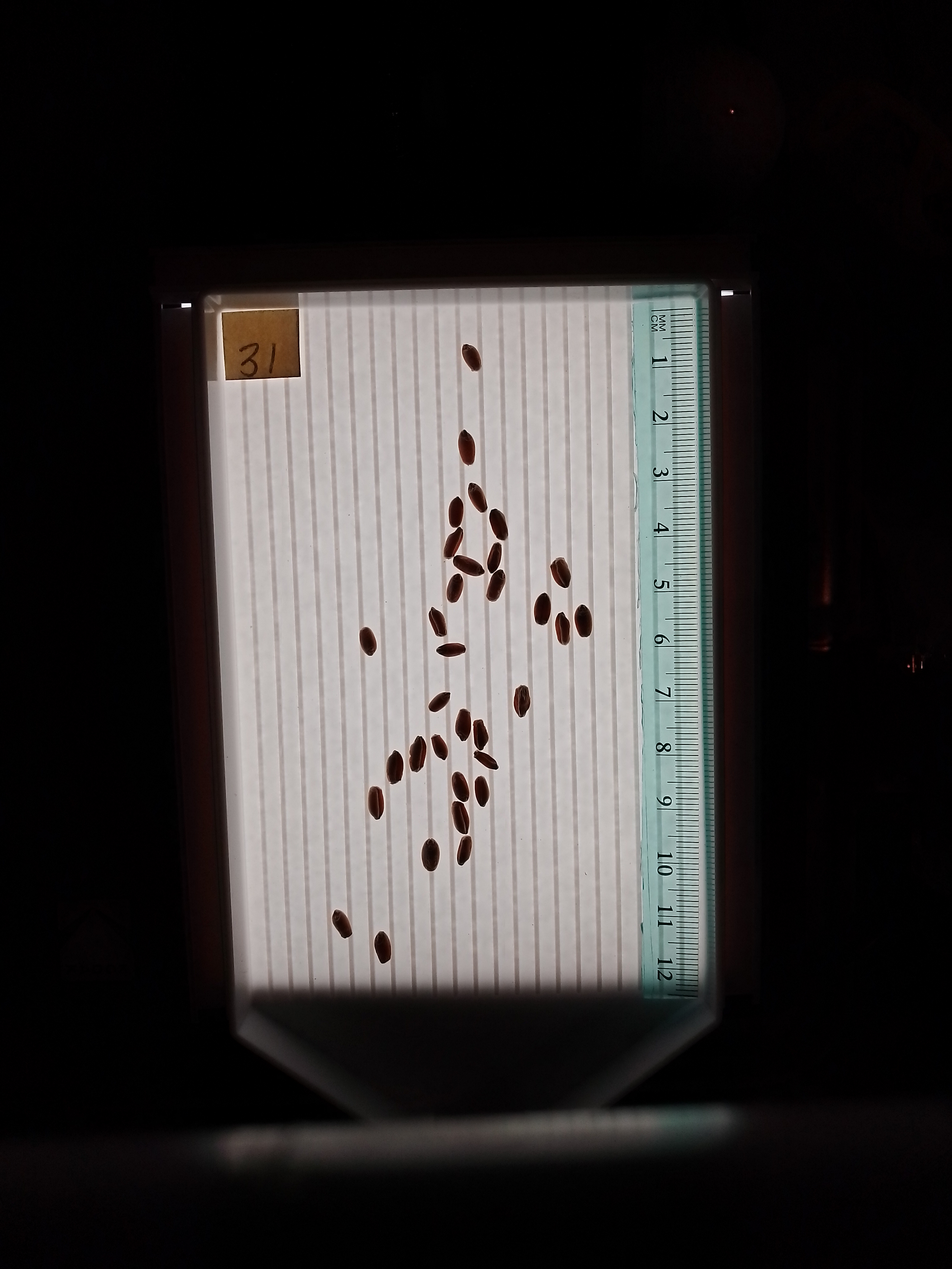seed mask: (574, 605, 593, 638), (551, 557, 571, 588), (409, 736, 426, 772), (421, 839, 440, 871), (453, 556, 483, 576), (458, 431, 475, 465), (468, 483, 487, 513), (367, 786, 384, 819), (444, 528, 462, 559), (513, 686, 531, 717), (374, 932, 392, 963), (452, 802, 469, 834), (387, 752, 404, 784), (490, 509, 508, 539), (487, 571, 505, 601), (332, 911, 352, 938), (534, 594, 551, 625), (462, 345, 481, 371), (473, 720, 489, 750), (448, 497, 464, 527), (455, 710, 471, 740), (429, 608, 446, 636), (360, 627, 377, 655), (452, 773, 469, 801), (556, 614, 571, 644), (475, 777, 490, 806), (447, 575, 463, 602), (487, 544, 502, 572), (429, 692, 450, 712), (457, 837, 472, 865), (475, 752, 498, 770), (438, 643, 465, 657), (432, 735, 447, 759)
